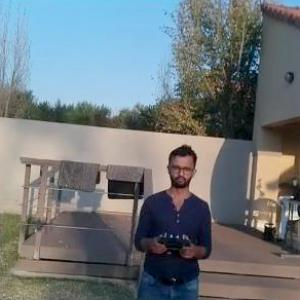follow: (129, 136, 216, 299)
